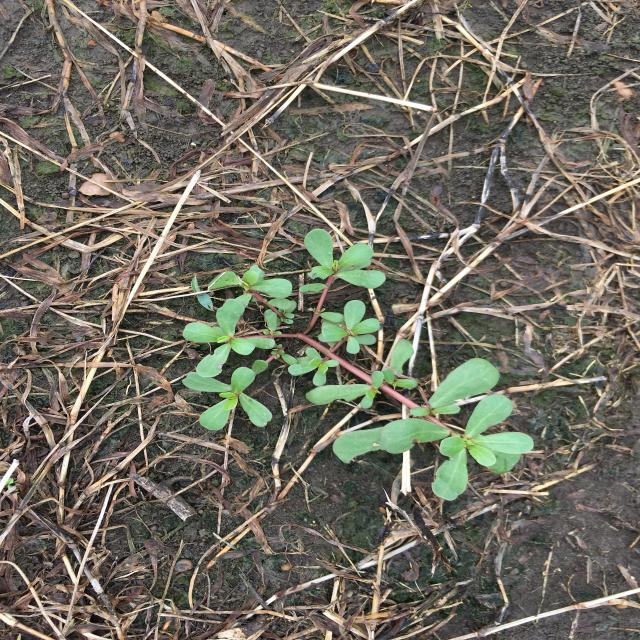Purslane: (181, 228, 535, 501)
